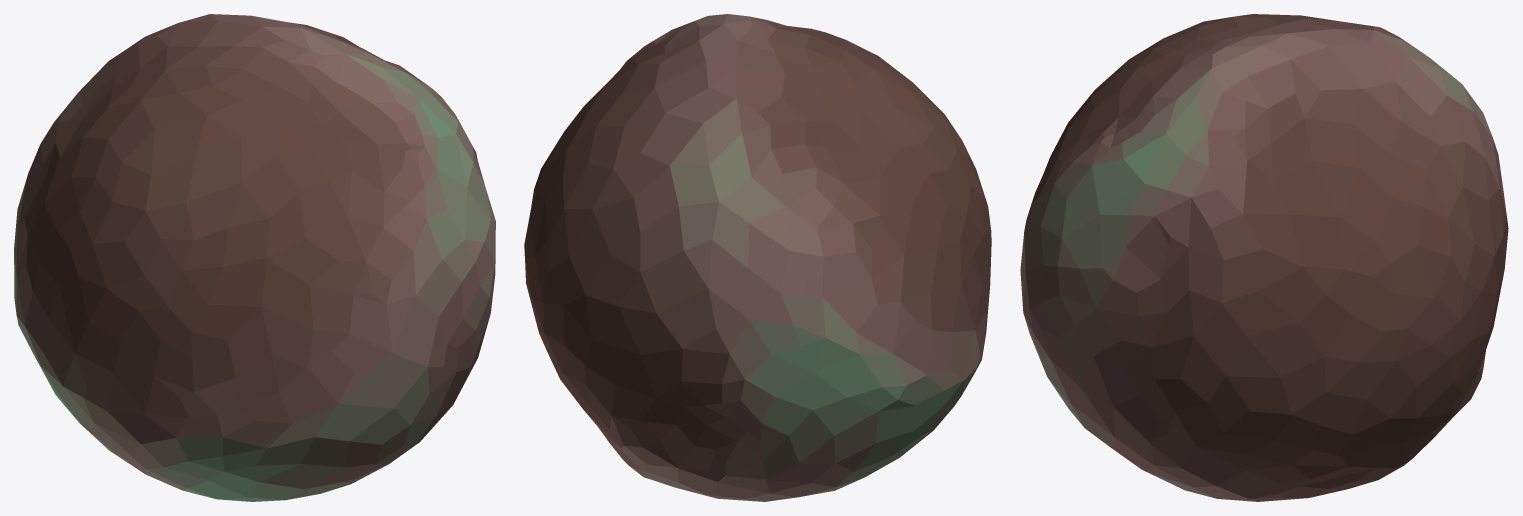
File: zeometry-organic-forms-lumpy-sphere_v4.glb
3 views of the same model, side by side, from view 1: azimuth 30°, elevation 25°; view 2: azimuth 150°, elevation 25°; view 3: azimuth 270°, elevation 25° (orthographic). The views are drawn at different scales.
Parts seen in each view (by area): view 1: Lumpy Sphere_v4; view 2: Lumpy Sphere_v4; view 3: Lumpy Sphere_v4.
Part boxes in pixels (x1=…): Lumpy Sphere_v4: x1=14, y1=14, x2=495, y2=501; Lumpy Sphere_v4: x1=524, y1=14, x2=991, y2=501; Lumpy Sphere_v4: x1=1020, y1=14, x2=1508, y2=501.
Size of the model in its own units: 0.477 by 0.5 by 0.4863.
